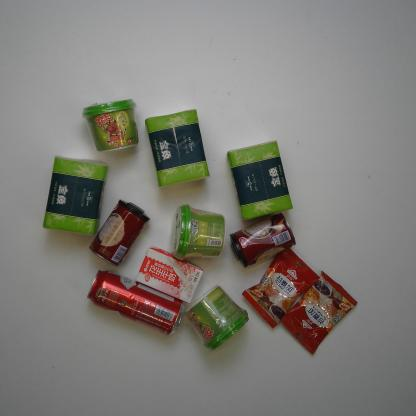Alcohol: (88, 270, 184, 338)
Canned Food: (90, 198, 150, 266), (229, 213, 296, 268)
Instant Drink: (280, 270, 356, 356), (244, 247, 320, 329), (184, 282, 248, 352), (81, 100, 142, 154), (169, 205, 226, 260)
Milk: (134, 247, 204, 304)
Tissue: (144, 108, 211, 190), (226, 139, 294, 219), (43, 154, 107, 236)
